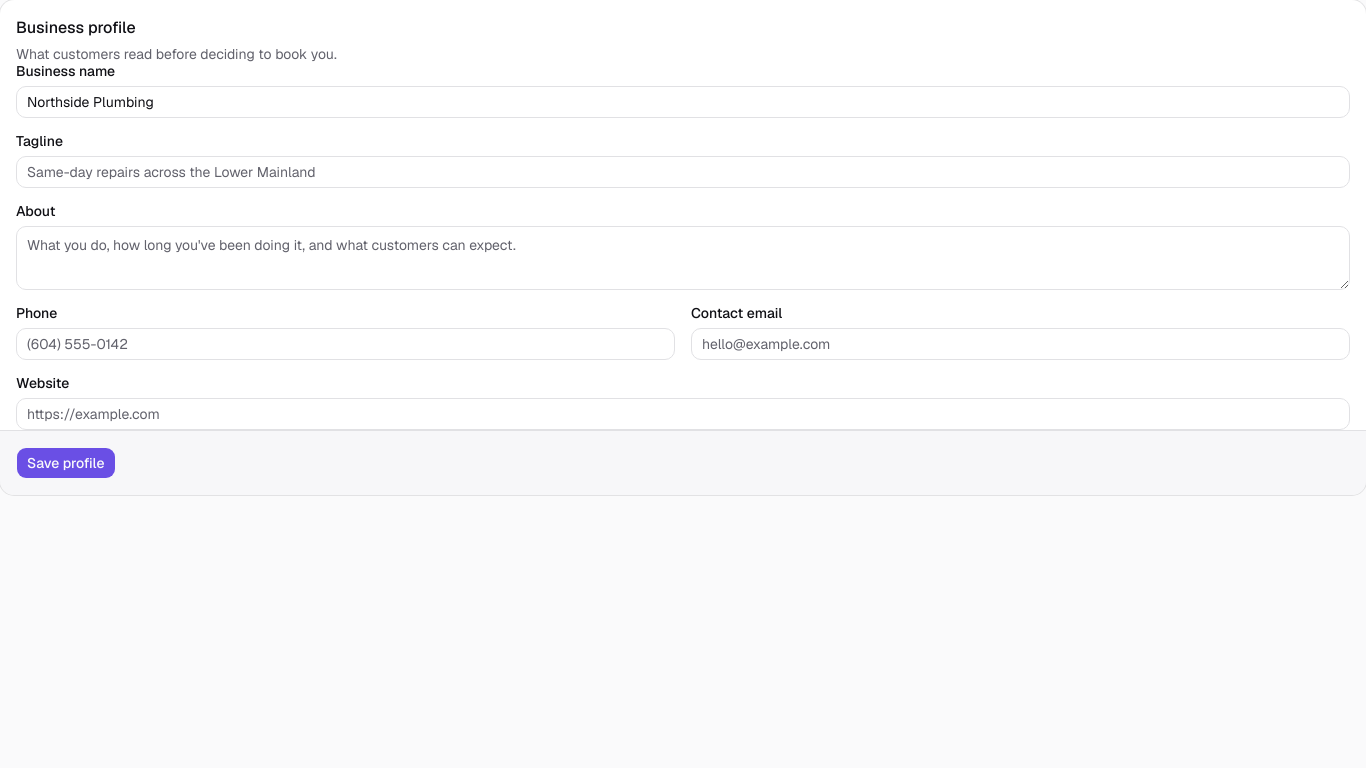
ProfileForm › shows a validation error returned by the server
The width and height of the screenshot is (1366, 768).
Click the button "Save profile".
click(66, 463)  # box [16, 447, 116, 479]
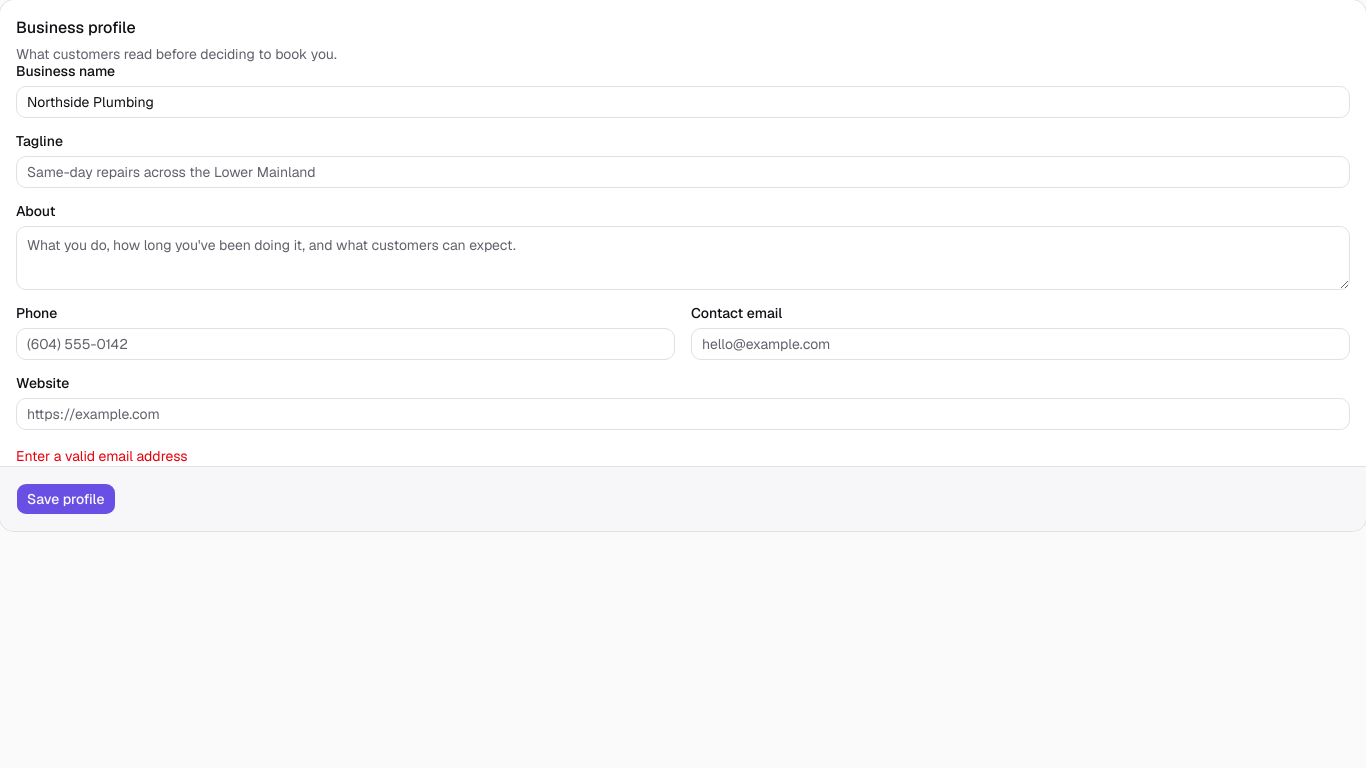
Now the message reads "Enter a valid email address", box [16, 447, 188, 465]
